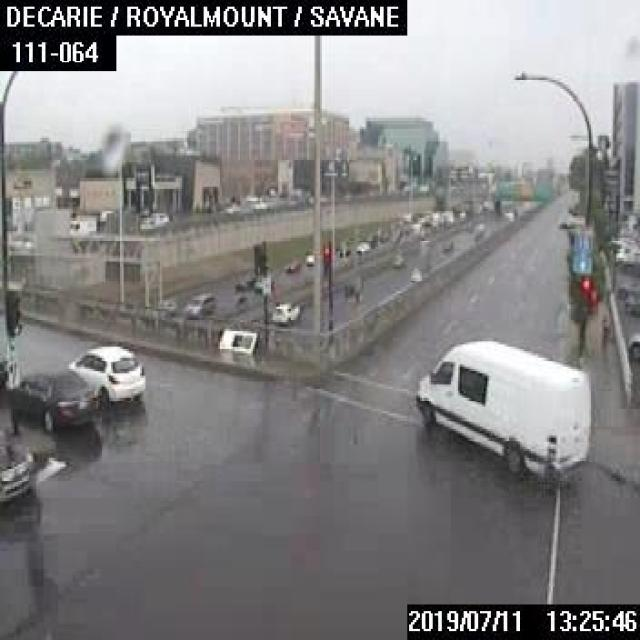vehicle: (412, 336, 592, 484), (9, 368, 95, 430), (64, 342, 144, 404), (0, 424, 35, 502), (184, 289, 216, 317), (269, 298, 302, 322), (627, 331, 638, 359), (389, 249, 406, 267), (436, 235, 453, 249), (282, 258, 299, 271), (354, 238, 369, 252)
